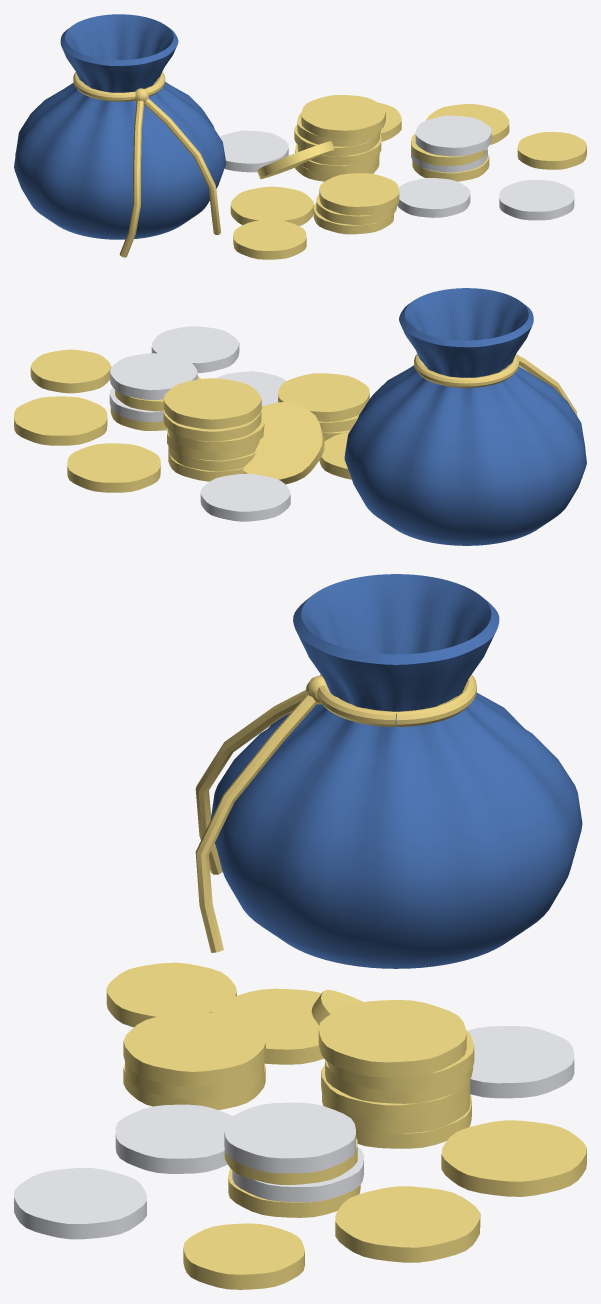
Rendered from gelt.glb.
3 renders of one model, top to bottom at view 1: azimuth 30°, elevation 25°; view 2: azimuth 150°, elevation 25°; view 3: azimuth 270°, elevation 25°, orthographic. The views are drawn at different scales.
Visible parts, largest first — view 1: Gelt_Cluster; view 2: Gelt_Cluster; view 3: Gelt_Cluster.
Part boxes in pixels (box(x1,y1,x2,y2)): Gelt_Cluster: box(14, 14, 586, 259); Gelt_Cluster: box(14, 288, 586, 545); Gelt_Cluster: box(14, 574, 586, 1289).
Bounding box in the file's own units: 0.2711 × 0.0936 × 0.1506.
